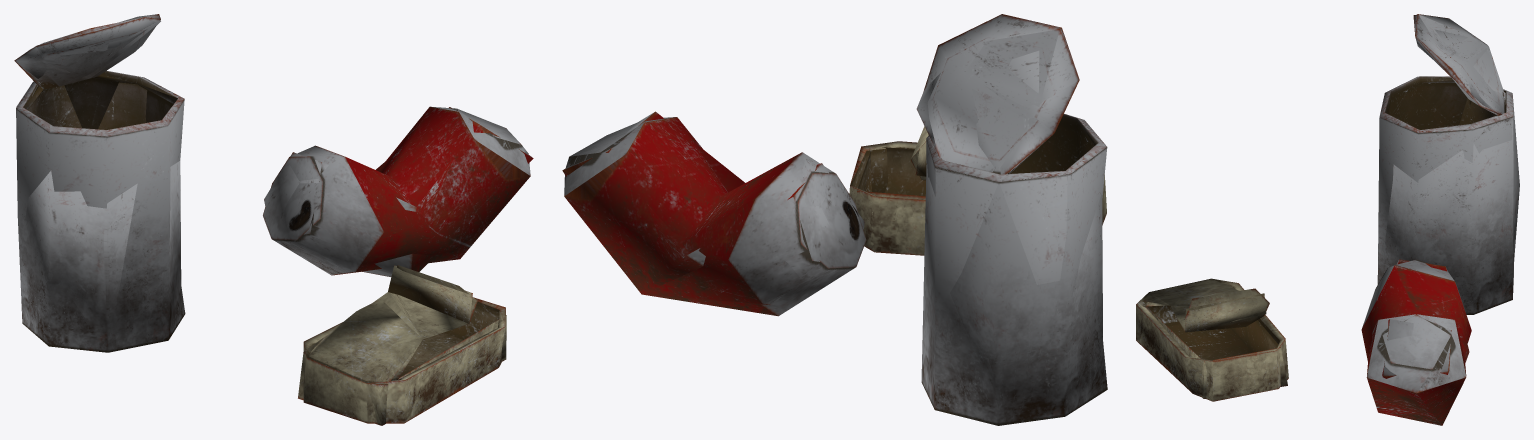
The model's file is Cans.fbx.
3 views of the same model, side by side, from view 1: azimuth 30°, elevation 25°; view 2: azimuth 150°, elevation 25°; view 3: azimuth 270°, elevation 25° (orthographic). The views are drawn at different scales.
Parts seen in each view (by area): view 1: Can_01_GEO, Can_03_GEO, Can_01_GEO.001, Can_02_GEO, Can_02_GEO.001, Can_03_GEO.001; view 2: Can_01_GEO, Can_03_GEO, Can_01_GEO.001, Can_03_GEO.001, Can_02_GEO, Can_02_GEO.001; view 3: Can_01_GEO.001, Can_01_GEO, Can_03_GEO, Can_02_GEO, Can_02_GEO.001, Can_03_GEO.001.
Boxes of the visible parts, x1,y1,x2,y2 form: Can_01_GEO: [15, 14, 185, 352]; Can_03_GEO: [263, 106, 530, 275]; Can_01_GEO.001: [14, 17, 181, 352]; Can_02_GEO: [303, 265, 505, 423]; Can_02_GEO.001: [298, 265, 506, 425]; Can_03_GEO.001: [264, 107, 533, 276]; Can_01_GEO: [924, 14, 1107, 416]; Can_03_GEO: [564, 117, 866, 305]; Can_01_GEO.001: [916, 15, 1103, 425]; Can_03_GEO.001: [562, 111, 864, 316]; Can_02_GEO: [849, 126, 1106, 255]; Can_02_GEO.001: [855, 130, 926, 216]; Can_01_GEO.001: [1380, 15, 1513, 314]; Can_01_GEO: [1377, 14, 1519, 314]; Can_03_GEO: [1361, 259, 1471, 425]; Can_02_GEO: [1136, 278, 1288, 401]; Can_02_GEO.001: [1143, 282, 1287, 398]; Can_03_GEO.001: [1372, 259, 1469, 378].
Size of the model in its own units: 26.8 by 16.6 by 21.8.
